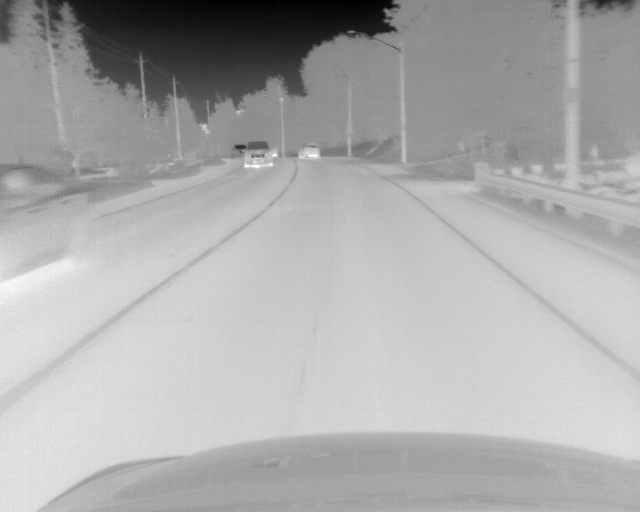car: (1, 161, 95, 287), (244, 141, 273, 169), (298, 142, 319, 159), (230, 142, 246, 157)
